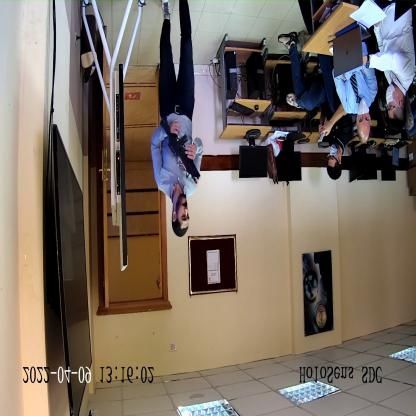handgun: (159, 113, 202, 180)
